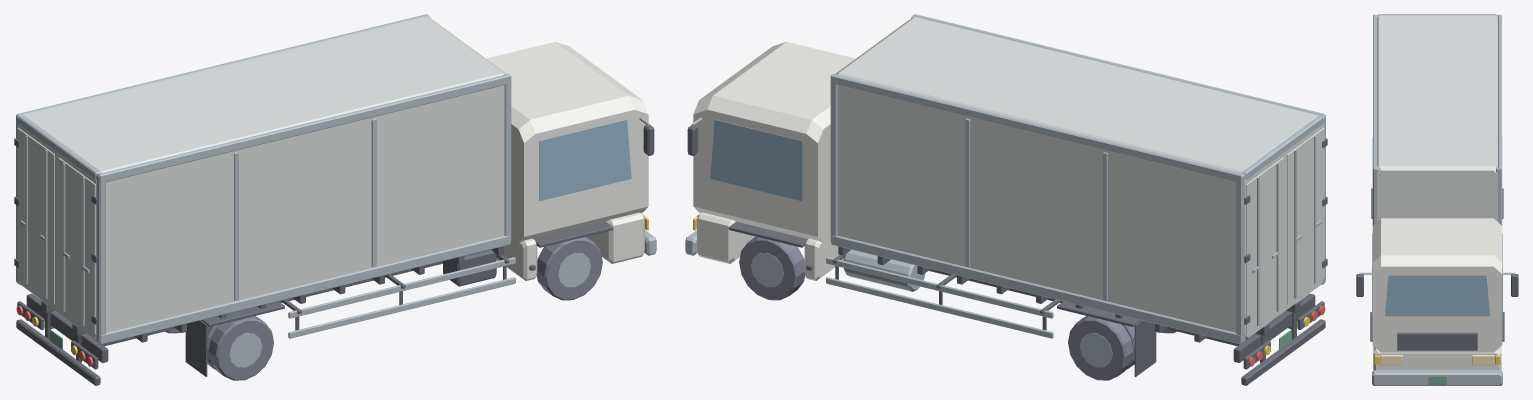
The model's file is HK_Truck_Medium.glb.
3 renders of one model, left to right at view 1: azimuth 30°, elevation 25°; view 2: azimuth 150°, elevation 25°; view 3: azimuth 270°, elevation 25°, orthographic. The views are drawn at different scales.
Visible parts, largest first — view 1: HK_Truck_Medium_BodyMain; view 2: HK_Truck_Medium_BodyMain; view 3: HK_Truck_Medium_BodyMain.
Part boxes in pixels (box(x1,y1,x2,y2)): HK_Truck_Medium_BodyMain: box(14, 14, 656, 385); HK_Truck_Medium_BodyMain: box(685, 14, 1327, 385); HK_Truck_Medium_BodyMain: box(1356, 14, 1518, 385).
Bounding box in the file's own units: 8.81 × 3.62 × 2.88.
